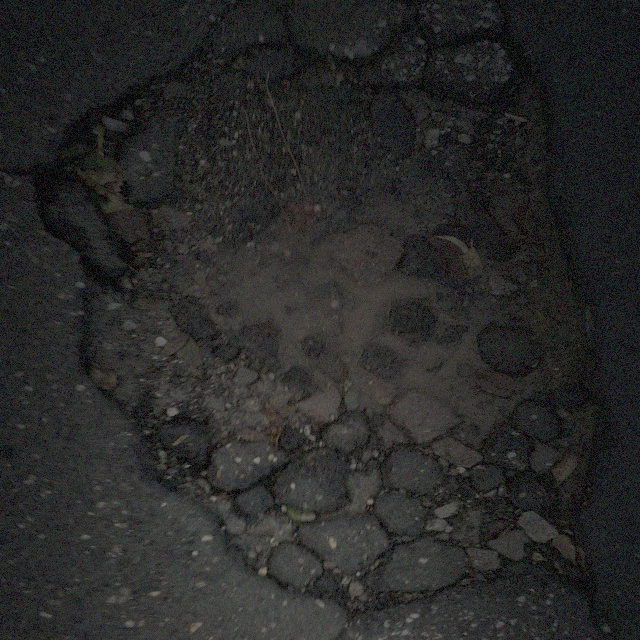pothole: (32, 32, 599, 609)
